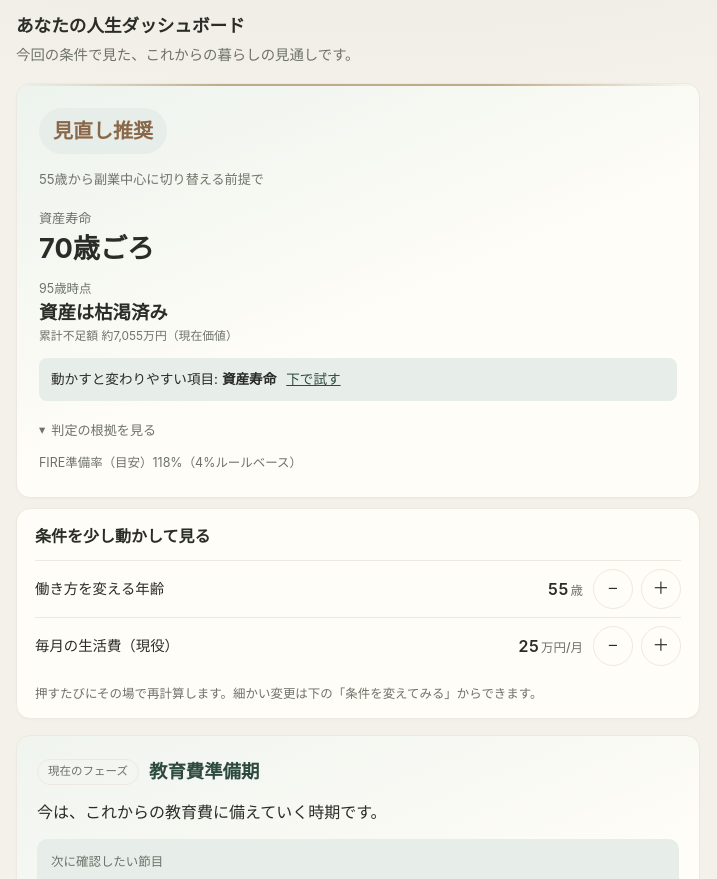
it: result screen: QuickAdjust card and delta chip › renders the quick-adjust card with knobs and recalculates in place on tap
The image size is (717, 879).
Expected: the element named "条件を少し動かして見る" is shown, [16,508,700,719]
Expected: the element named "条件を少し動かして見る" shows "条件を少し動かして見る", [35,526,210,546]
# − をタップ → その場で再計算され、差分チップが出る
Click the button named "毎月の生活費（現役）を1万円/月減らす" at (613, 646), box [593,626,633,666]
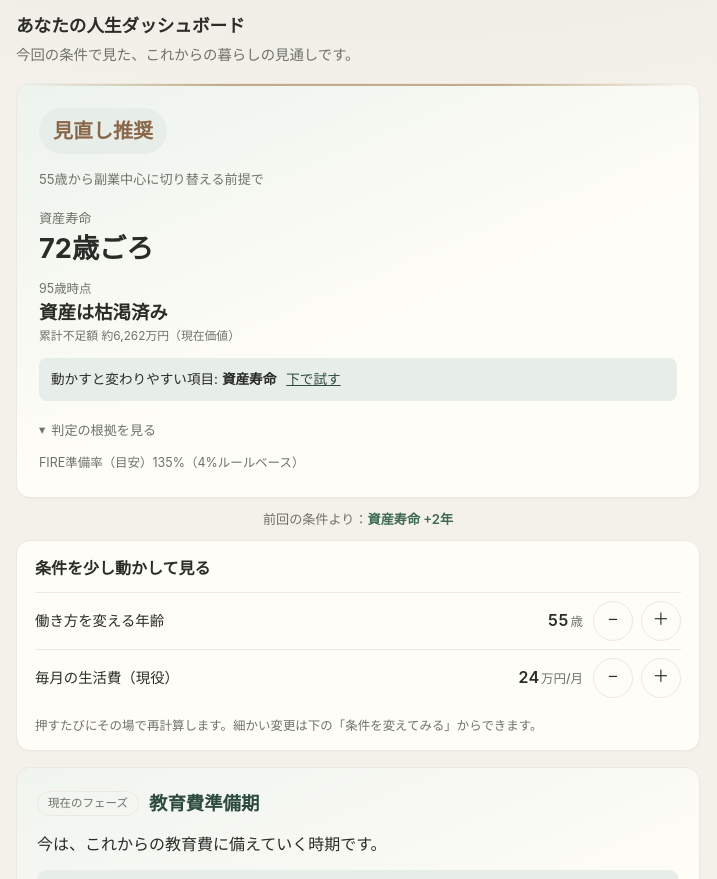
Expected: the text "前回の条件より" is shown, [263,511,354,527]
